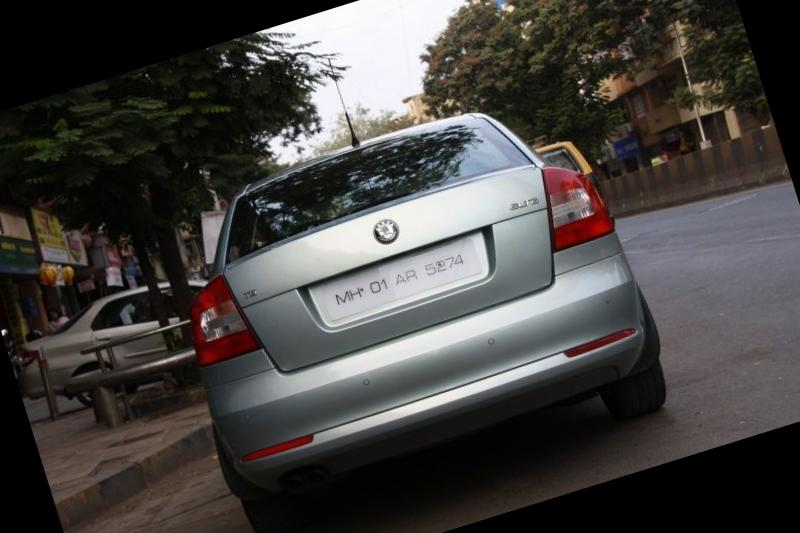plate: (286, 223, 508, 351)
